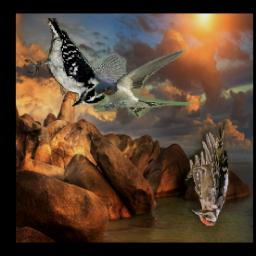Swallow: (94, 48, 193, 116)
Woodpecker: (22, 19, 109, 107), (186, 122, 230, 226)
